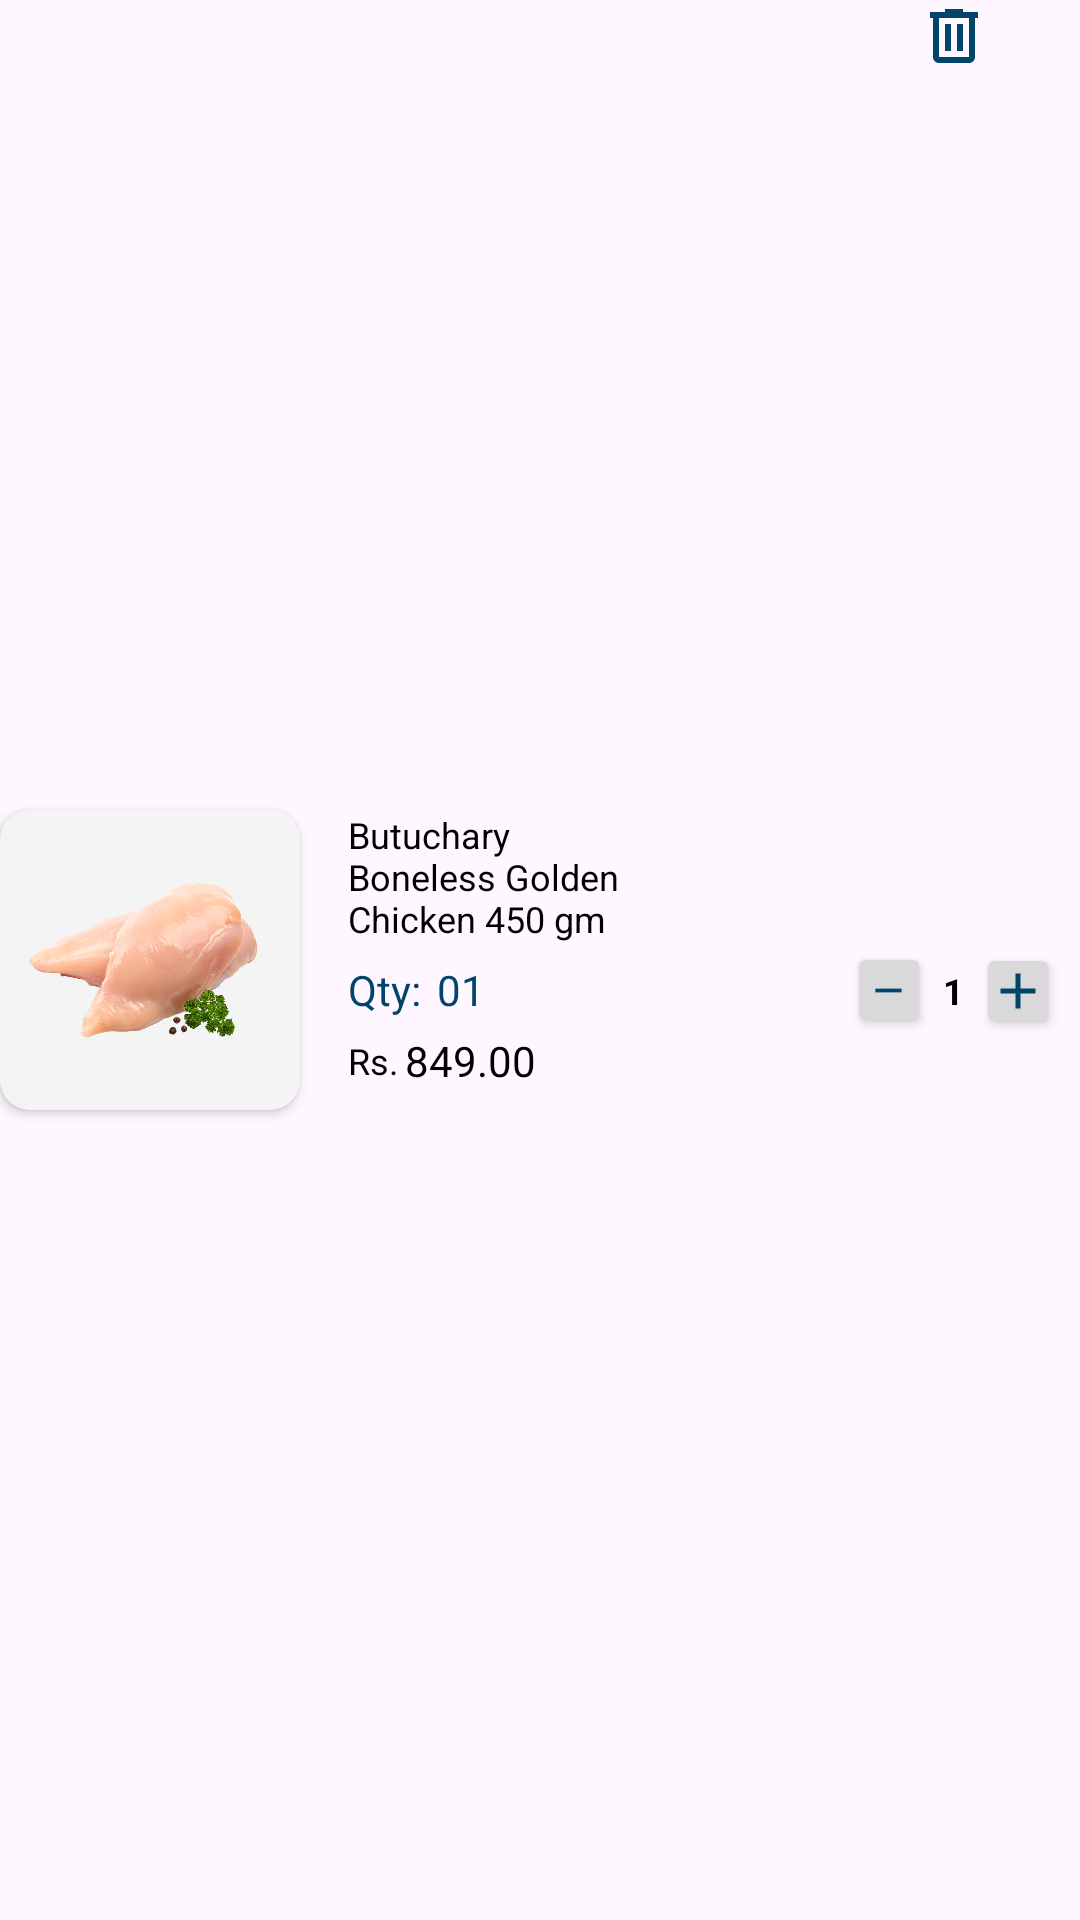

Icons on this 1080w x 1920h Android screen, each with the point to tap as [x,y]:
add: [1018,991]
chickenbreast: [148,996]
delete: [954,36]
minus: [888,990]
